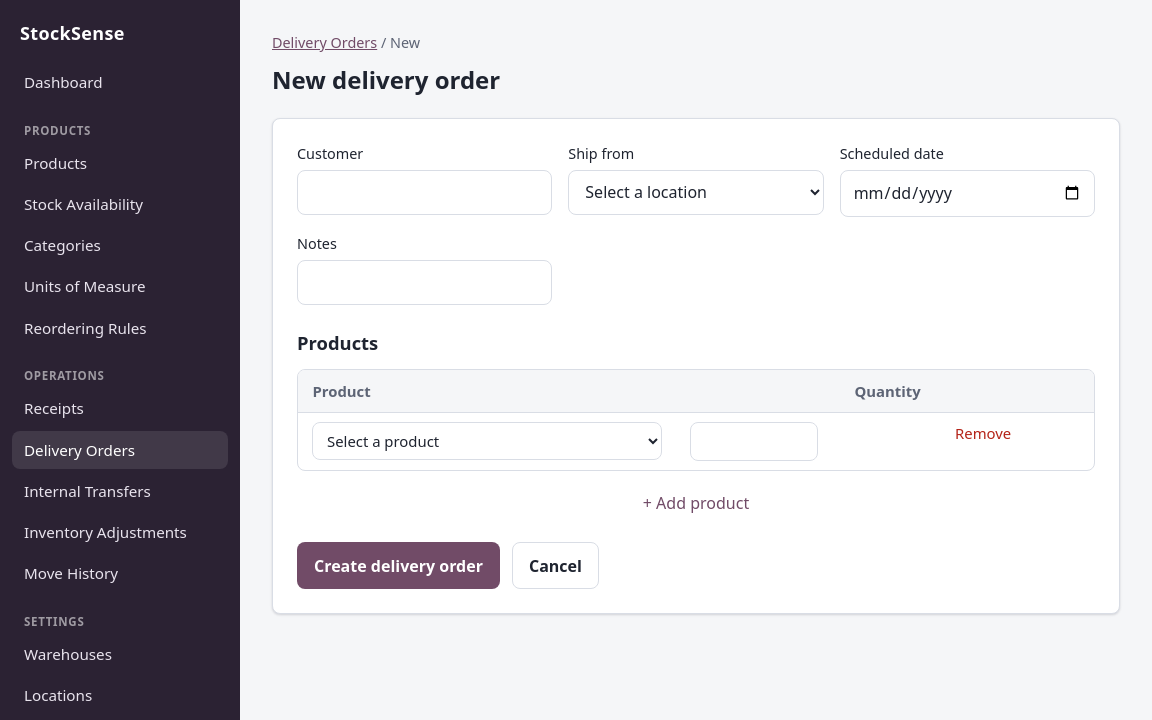
Test: delivery orders › warns in the form when a quantity exceeds available stock
Select "WH-MAIN / Rack A" in the dropdown labelled "Ship from": (696, 192) top-left (568, 170), bottom-right (824, 215)
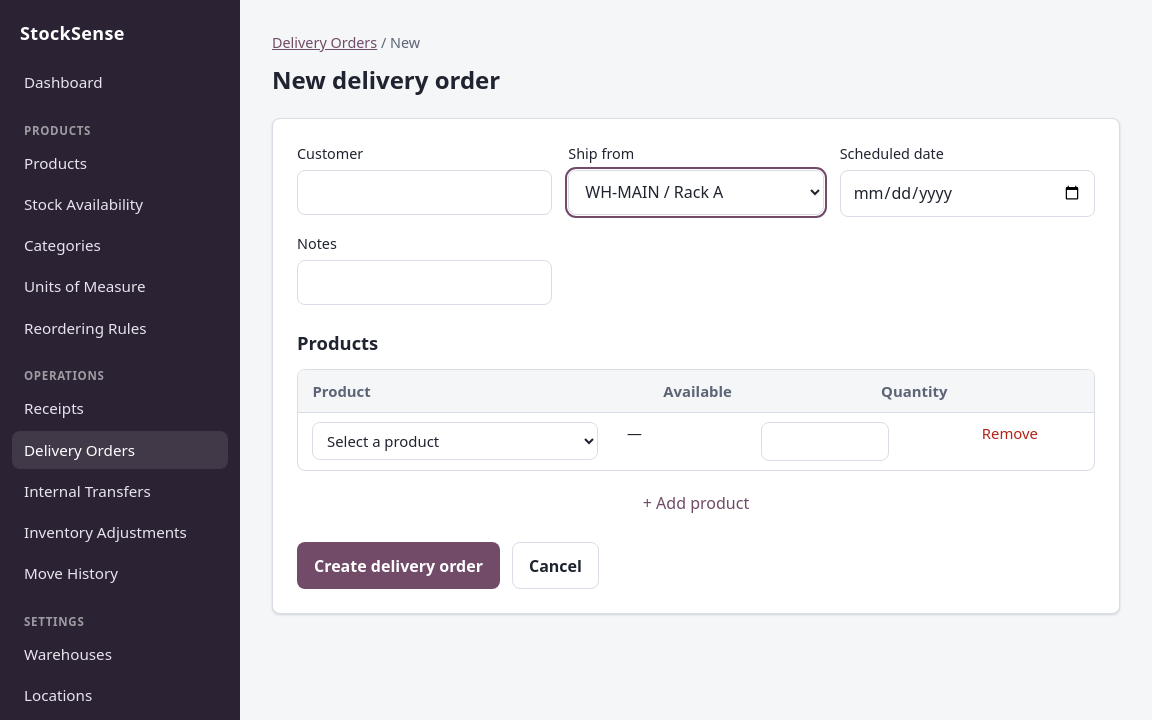
Select "Steel Rods (STL-ROD)" in the dropdown named "Product for line 1": (455, 441) top-left (312, 422), bottom-right (598, 460)
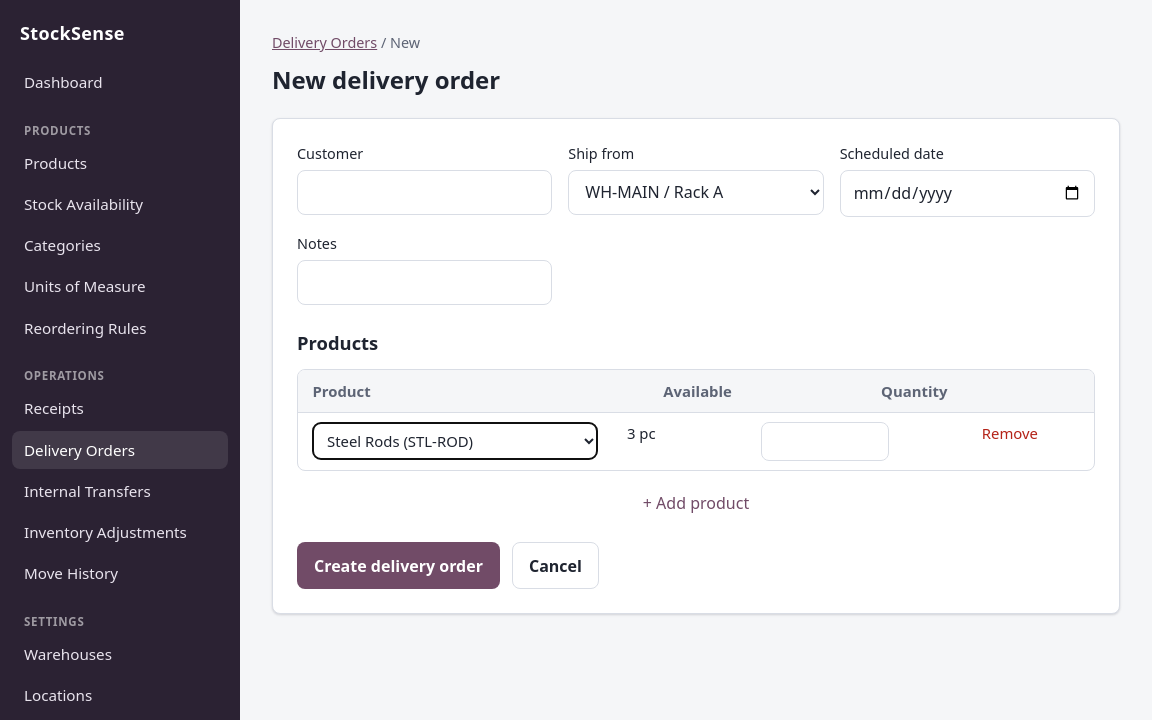
In the field named "Quantity for line 1": (825, 441) top-left (761, 422), bottom-right (889, 461), type "5"
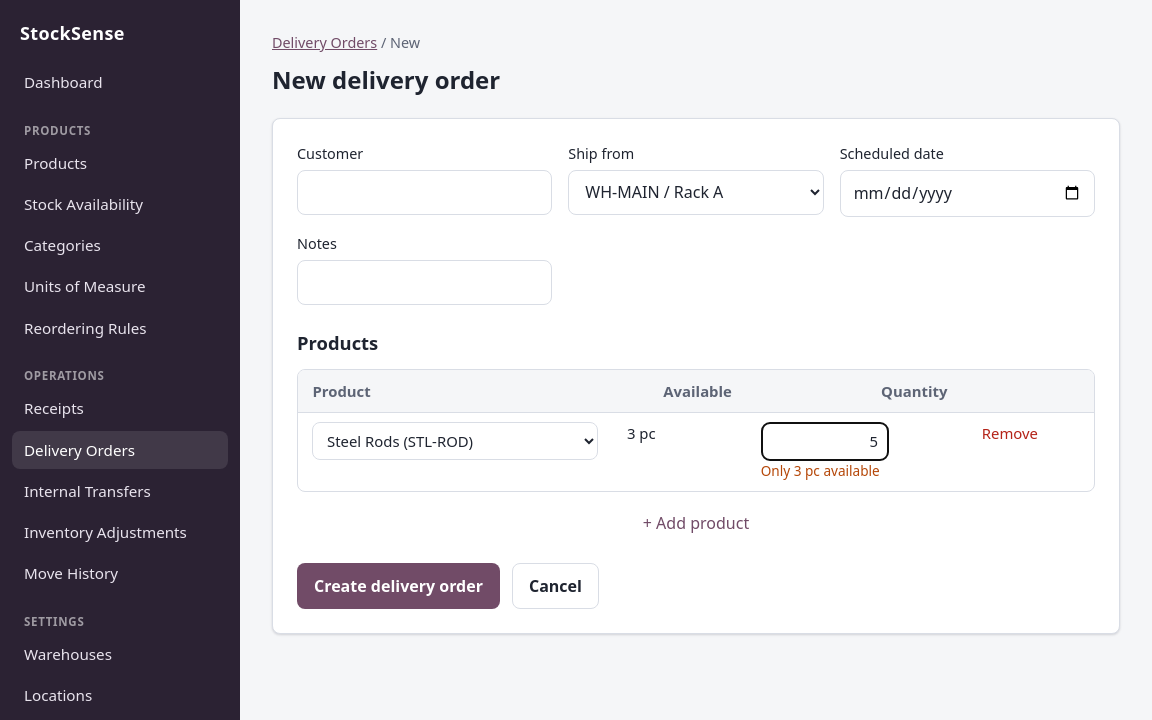
Now the text "Only 3 pc available" is shown, box top-left (761, 461), bottom-right (880, 480)
